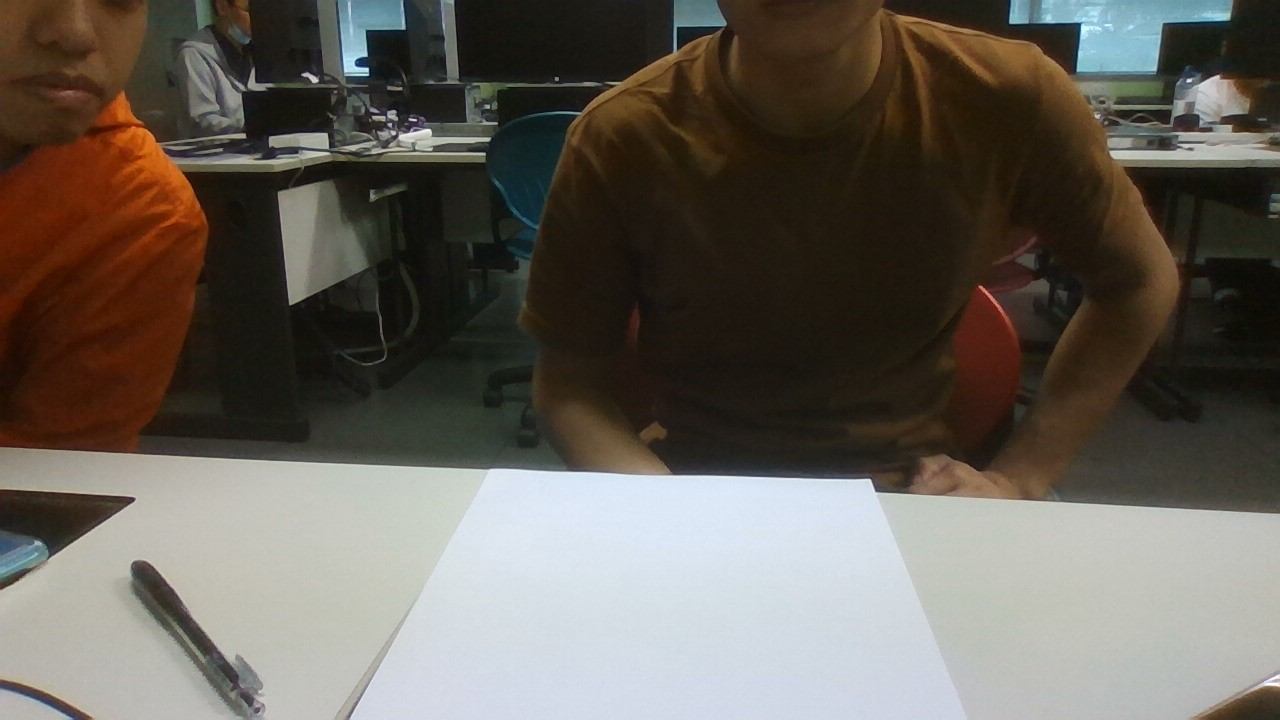pen: (130, 558, 265, 720)
